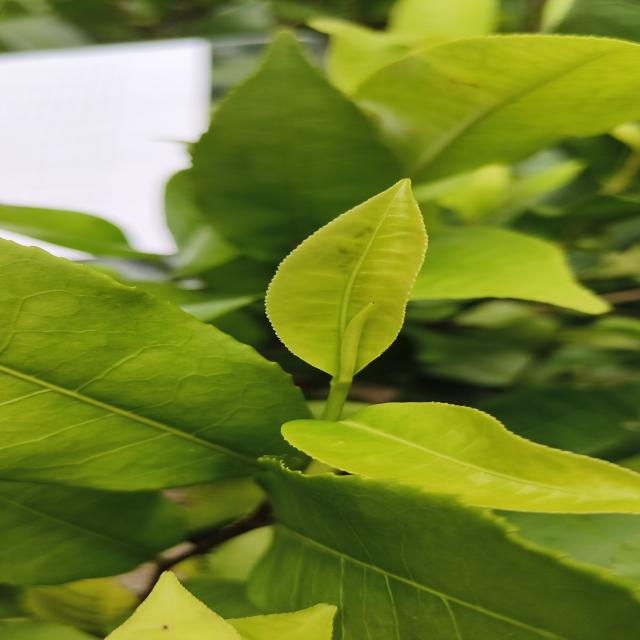Leaf: (0, 240, 308, 490), (249, 461, 640, 640), (191, 32, 403, 265), (352, 35, 640, 181), (281, 402, 640, 513), (266, 179, 426, 378), (0, 481, 183, 585), (410, 226, 609, 314), (104, 571, 336, 640), (0, 204, 156, 258), (310, 18, 415, 95), (388, 0, 498, 39), (416, 36, 445, 48)
